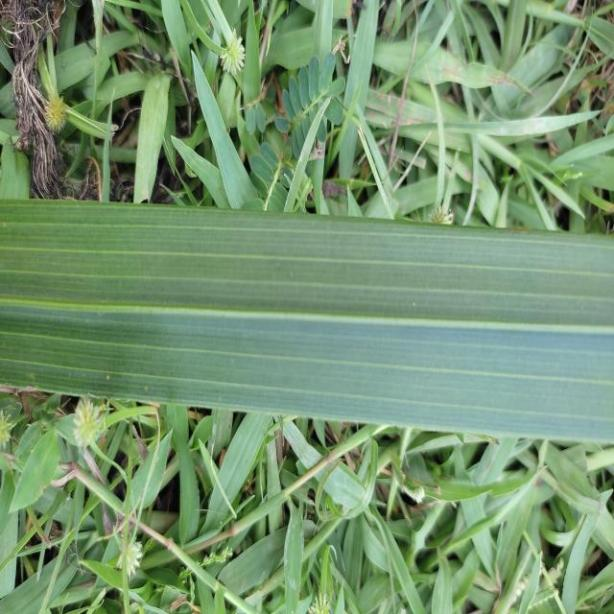Healthy: (0, 197, 614, 444)
